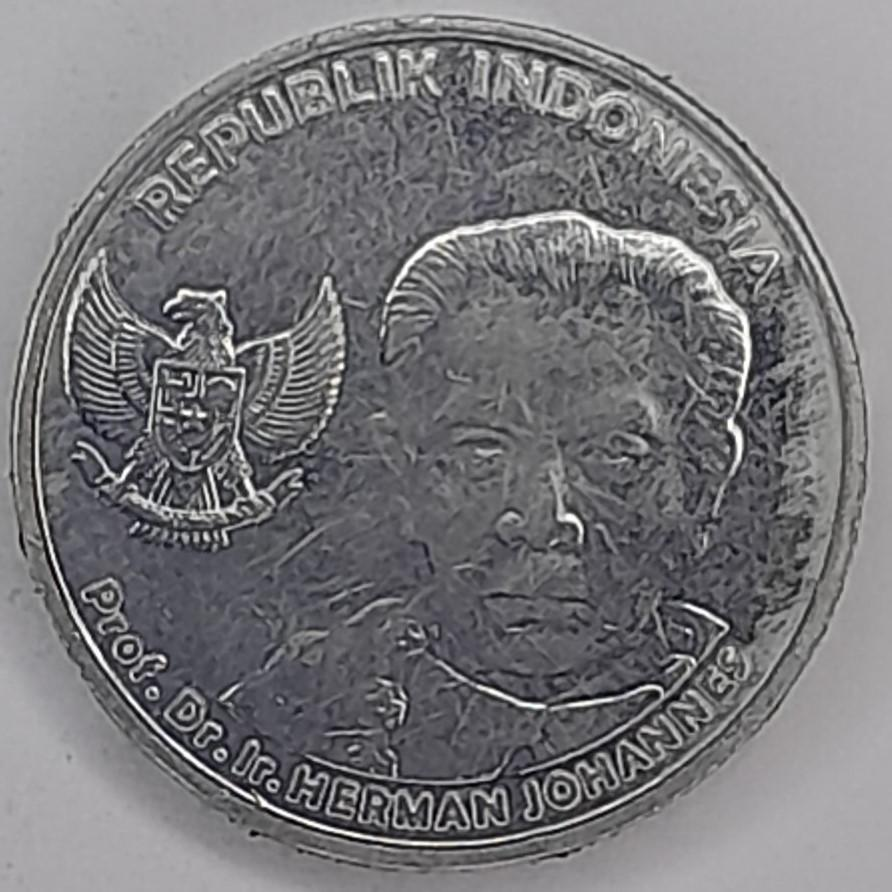coin_100_e2016: (2, 7, 873, 875)
